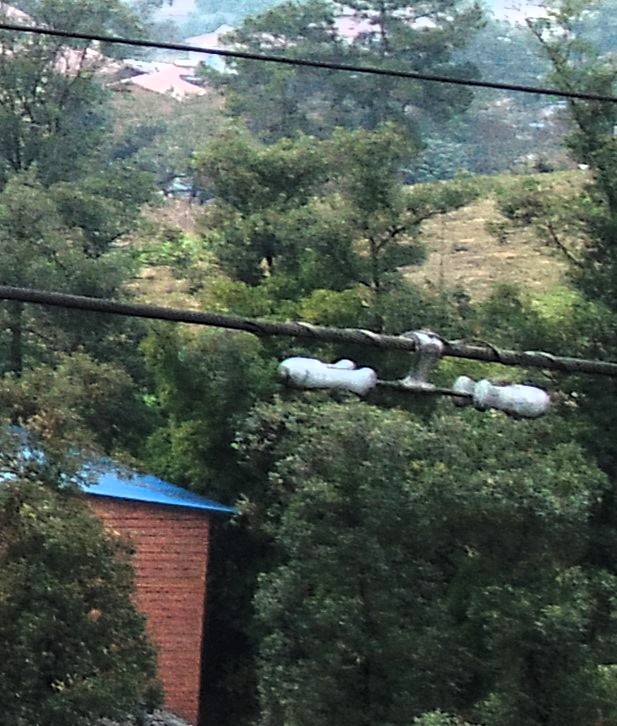Shockproof hammer: (259, 311, 556, 425)
